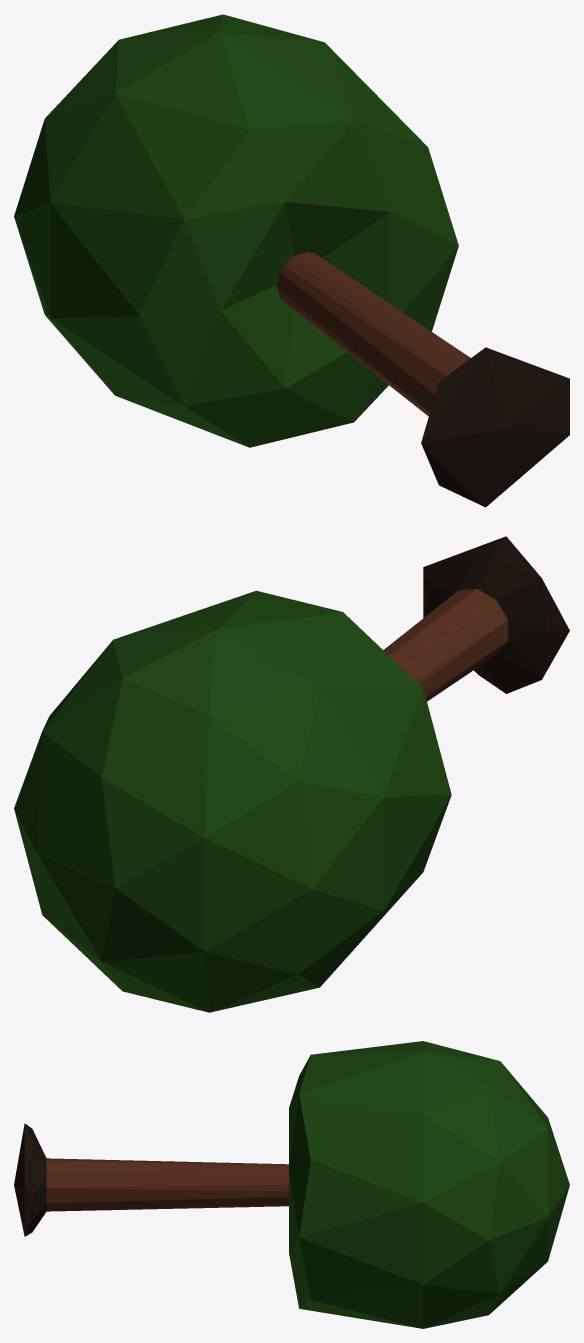
File: TreeFBX.fbx
3 views of the same model, one above another, from view 1: azimuth 30°, elevation 25°; view 2: azimuth 150°, elevation 25°; view 3: azimuth 270°, elevation 25° (orthographic). The views are drawn at different scales.
Parts seen in each view (by area): view 1: Tree; view 2: Tree; view 3: Tree.
Part boxes in pixels (x1,y1,x2,y2): Tree: (14,14,569,507); Tree: (14,536,569,1012); Tree: (14,1041,569,1328).
Size of the model in its own units: 1030 by 1083 by 2052.
Materials: 1 (1 with a texture image).
